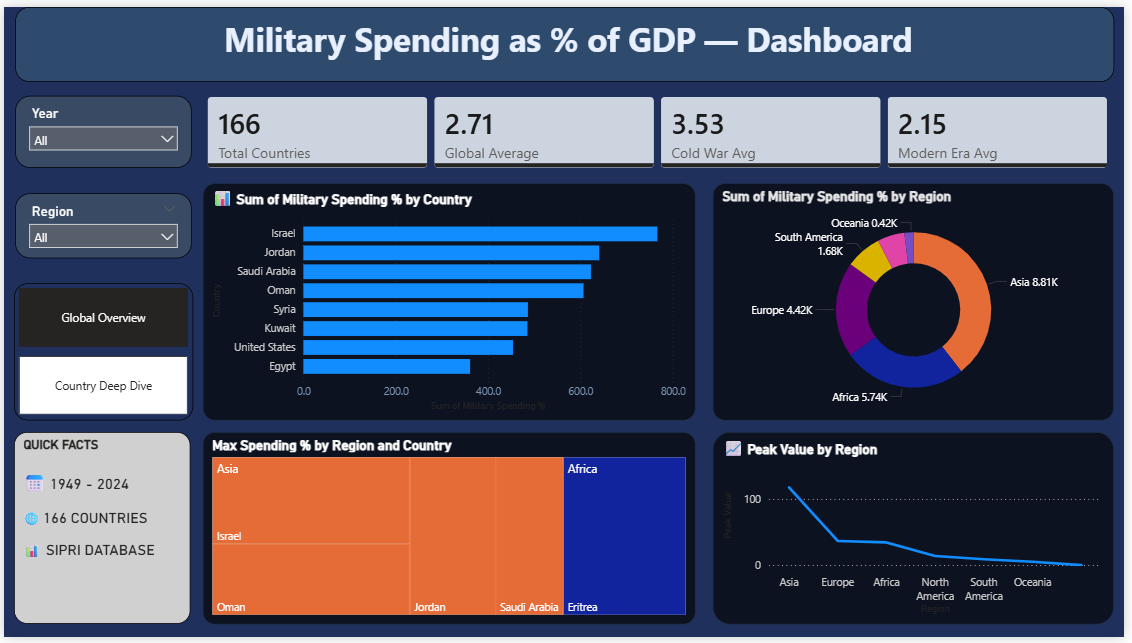

This screenshot's page, from the dashboard's own definition file:
{"tool":"powerbi","page":{"name":"Global Overview","canvas":[1280,720],"ordinal":0},"visuals":[{"type":"clusteredBarChart","title":"📊 Sum of Military Spending % by Country","fields":{"Category":["ap.Country"],"Y":["Sum(ap.Military Spending %)"]},"box":[227.1,201.4,562.9,271.4],"z":0},{"type":"textbox","box":[12.9,0,1255.7,85.7],"z":1000},{"type":"donutChart","fields":{"Category":["ap.Region"],"Y":["Sum(ap.Military Spending %)"]},"box":[810,201.4,458.6,271.4],"z":2000},{"type":"areaChart","title":"📈   Peak Value by Region","fields":{"Category":["ap.Region"],"Y":["ap.Peak Value"]},"box":[810,485.7,458.6,220],"z":3000},{"type":"slicer","fields":{"Values":["ap.Year"]},"box":[12.3,101.5,201.7,82.3],"z":4000},{"type":"treemap","fields":{"Group":["ap.Country","ap.Region"],"Values":["ap.Max Spending %"]},"box":[227.1,485.7,562.9,220],"z":5000},{"type":"pageNavigator","box":[12.1,316.1,205.1,156.8],"z":6000},{"type":"textbox","title":"QUICK FACTS","box":[12.1,486.2,201.5,219.6],"z":7000},{"type":"slicer","fields":{"Values":["ap.Region"]},"box":[12.3,212.7,201.7,74.1],"z":8000},{"type":"cardVisual","fields":{"Data":["ap.Total Countries","ap.Global Average","ap.Cold War Avg","ap.Modern Era Avg"]},"box":[215.7,85.7,1064.3,115.7],"z":9000}]}

Visuals, with their boxes in screenshot pixels (x1, y1, x2, y2), scaled from the page's 1280x720 canvas onto the 1132x643 screenshot:
"📊 Sum of Military Spending % by Country" clusteredBarChart: box=[201, 180, 699, 422]
textbox: box=[11, 0, 1122, 77]
donutChart - ap.Region x Sum(ap.Military Spending %): box=[716, 180, 1122, 422]
"📈   Peak Value by Region" areaChart: box=[716, 434, 1122, 630]
slicer - ap.Year: box=[11, 91, 189, 164]
treemap - ap.Country x ap.Region: box=[201, 434, 699, 630]
pageNavigator: box=[11, 282, 192, 422]
"QUICK FACTS" textbox: box=[11, 434, 189, 630]
slicer - ap.Region: box=[11, 190, 189, 256]
cardVisual - ap.Total Countries x ap.Global Average: box=[191, 77, 1131, 180]
